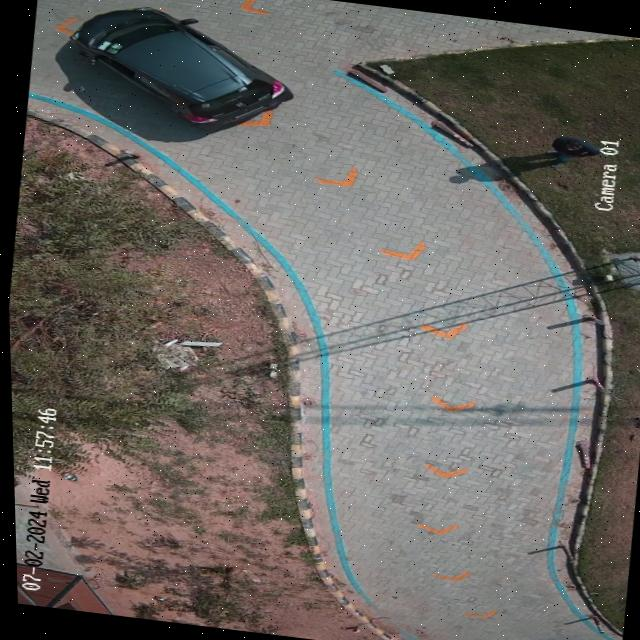car: (68, 5, 291, 128)
